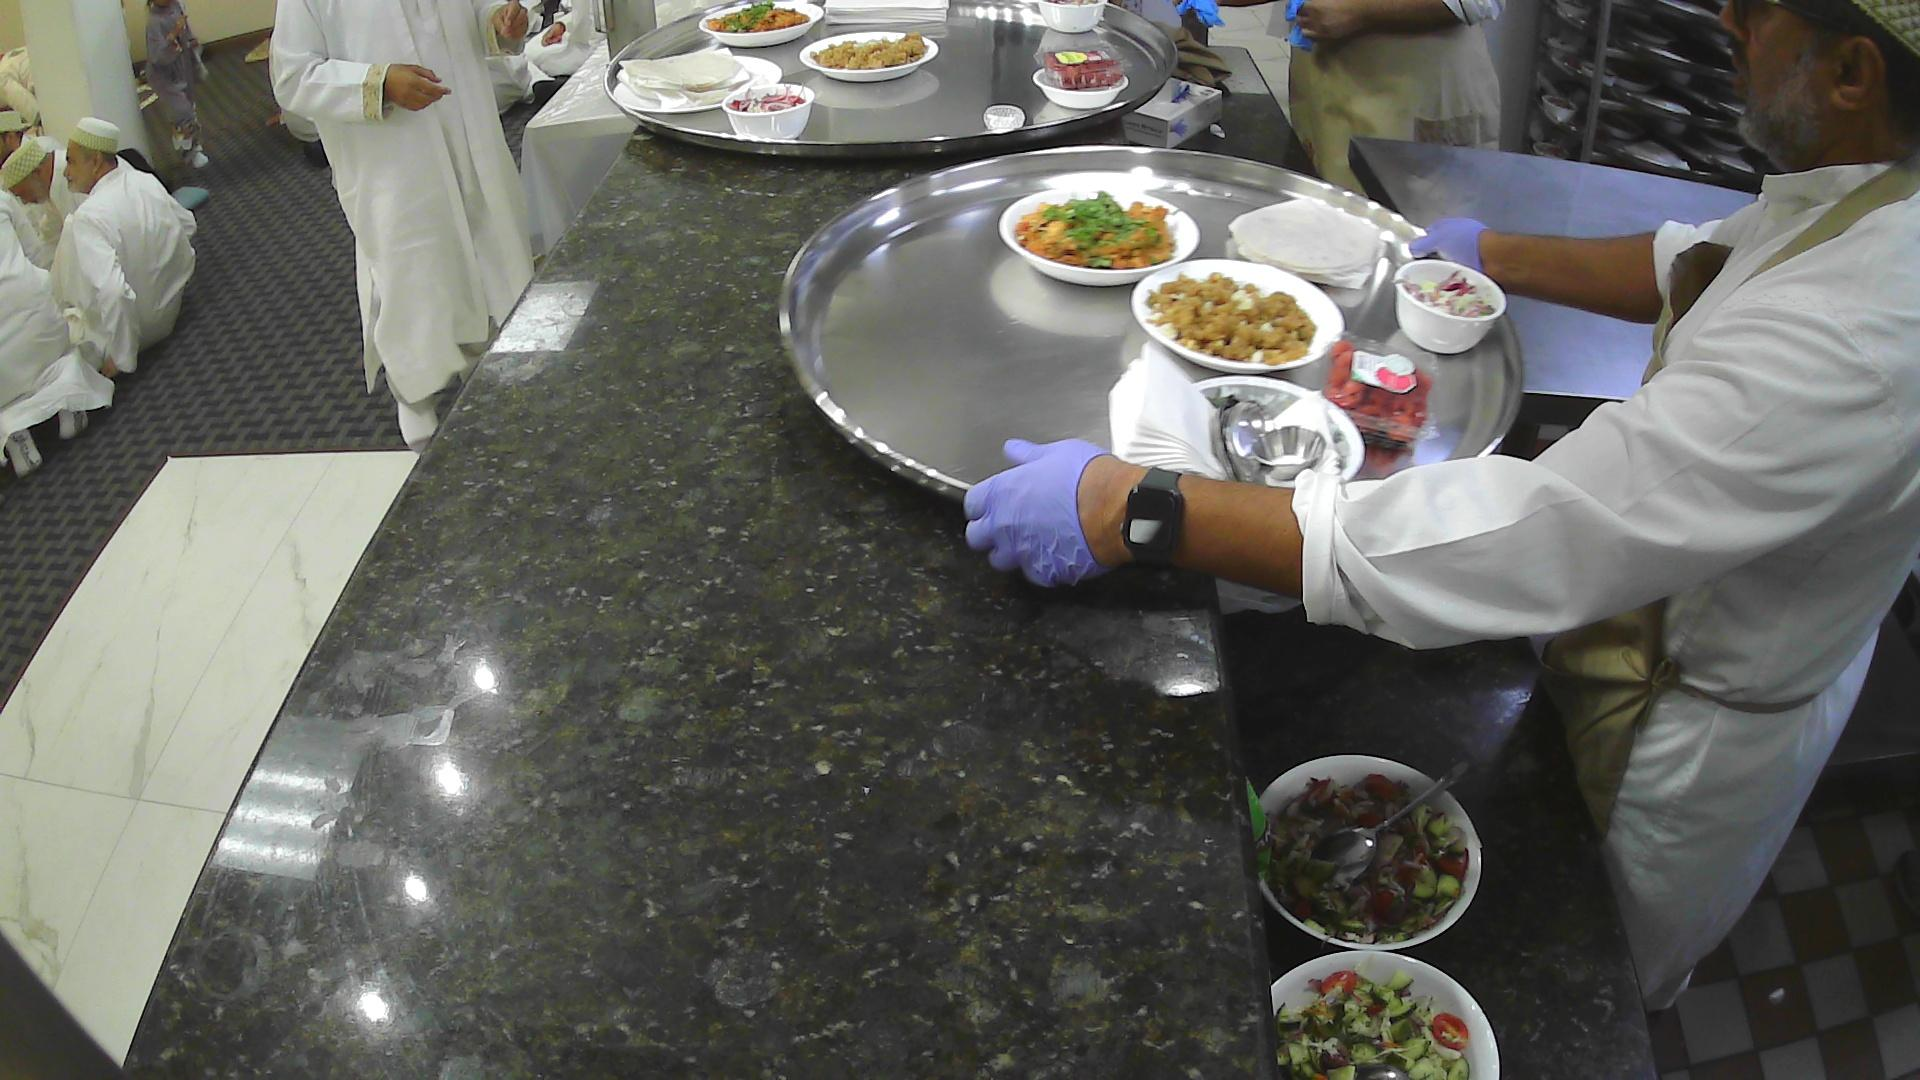thaal: (777, 142, 1526, 517), (601, 0, 1183, 166)
